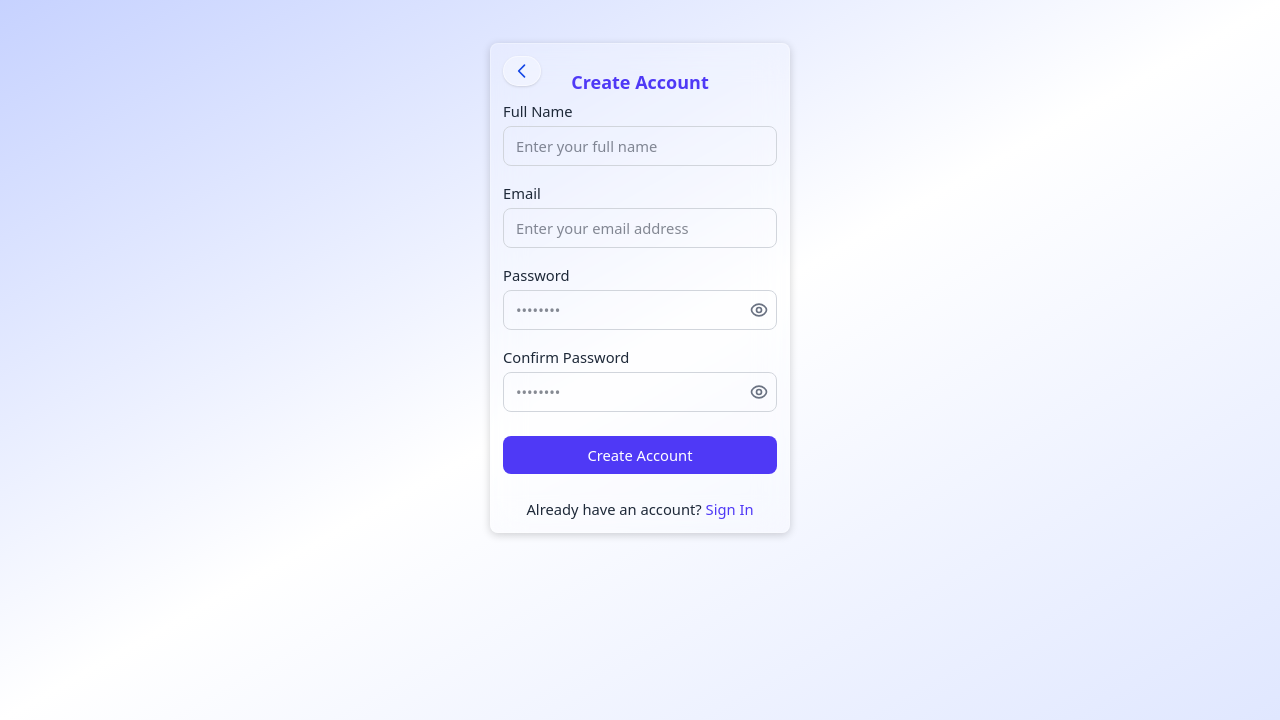
SignUp Page › shows error if email is invalid
This screenshot has width=1280, height=720.
In the field labelled "Full Name": (640, 146) [503,126,777,166], type "Test User"
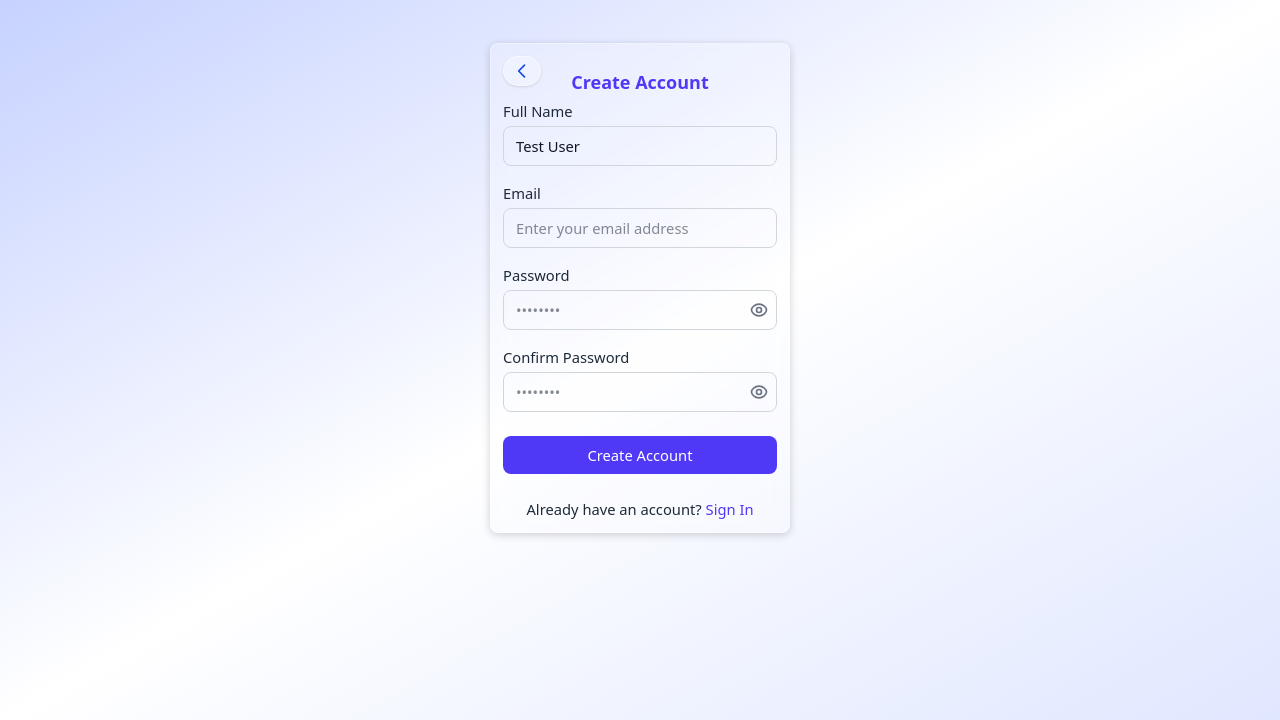
In the field labelled "Email": (640, 228) [503,208,777,248], type "invalidemail"
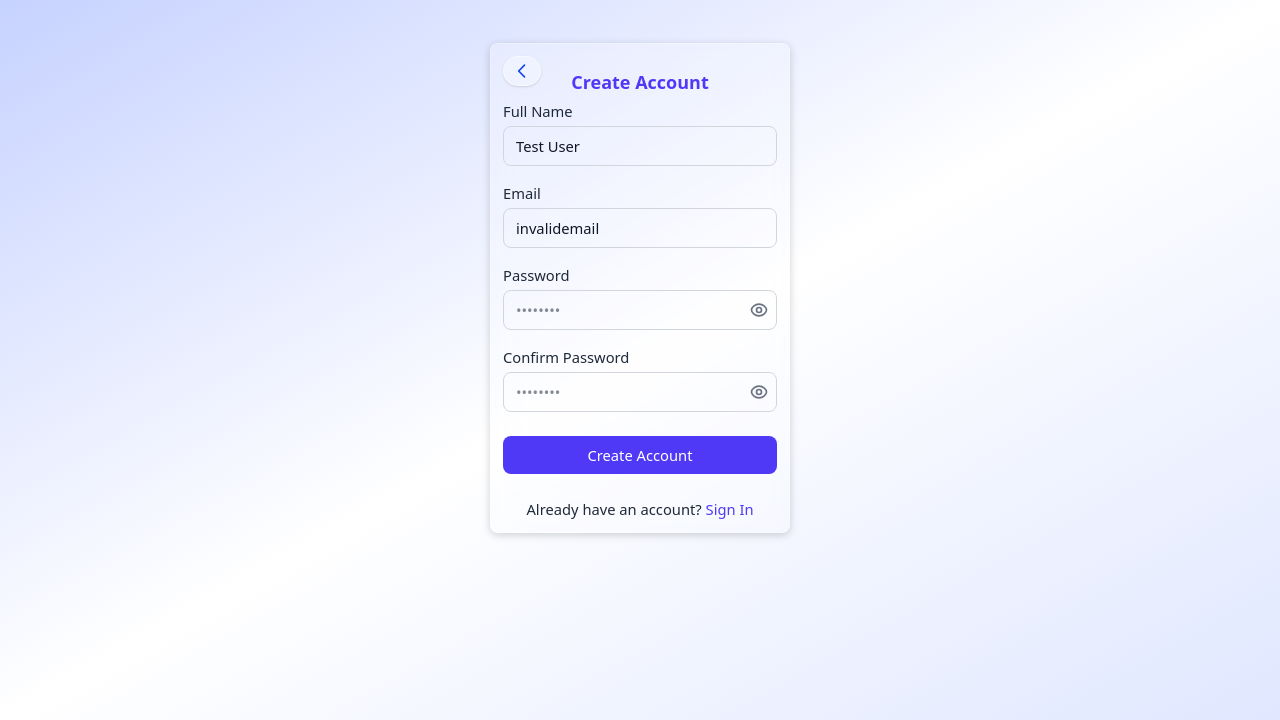
In the password field labelled "Password": (640, 310) [503,290,777,330], type "abcdef"
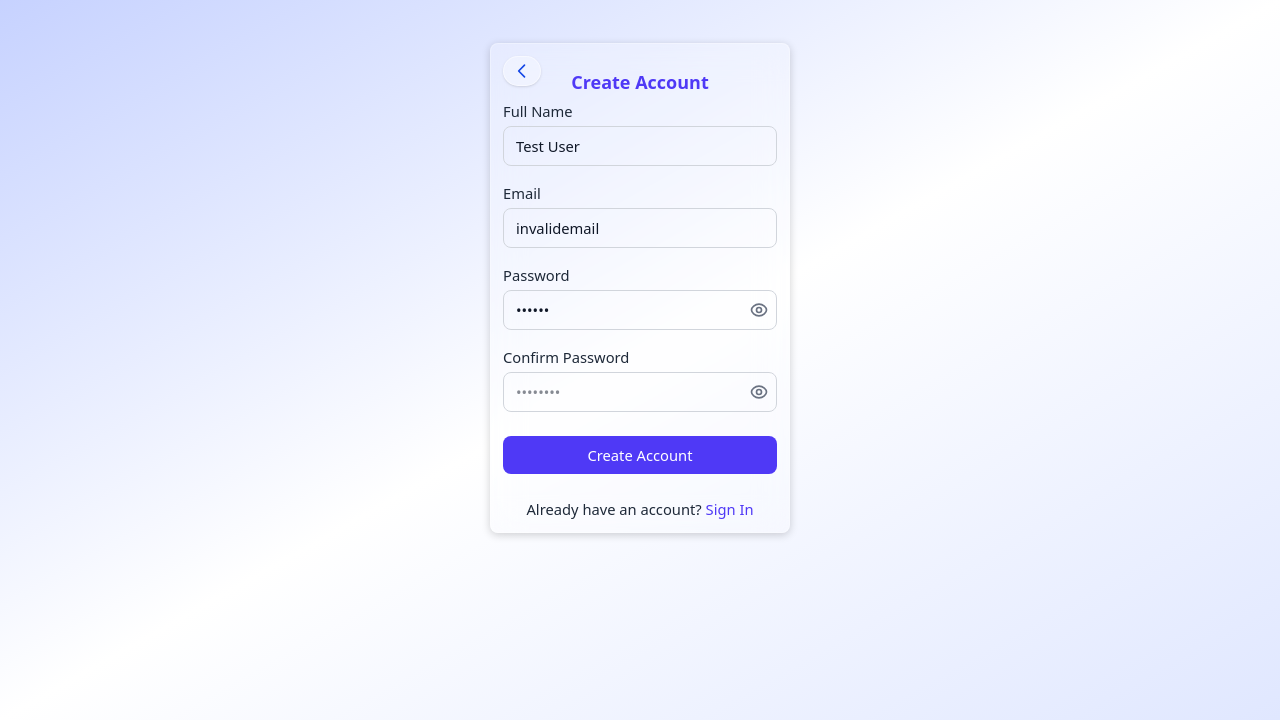
In the password field labelled "Confirm Password": (640, 392) [503,372,777,412], type "abcdef"
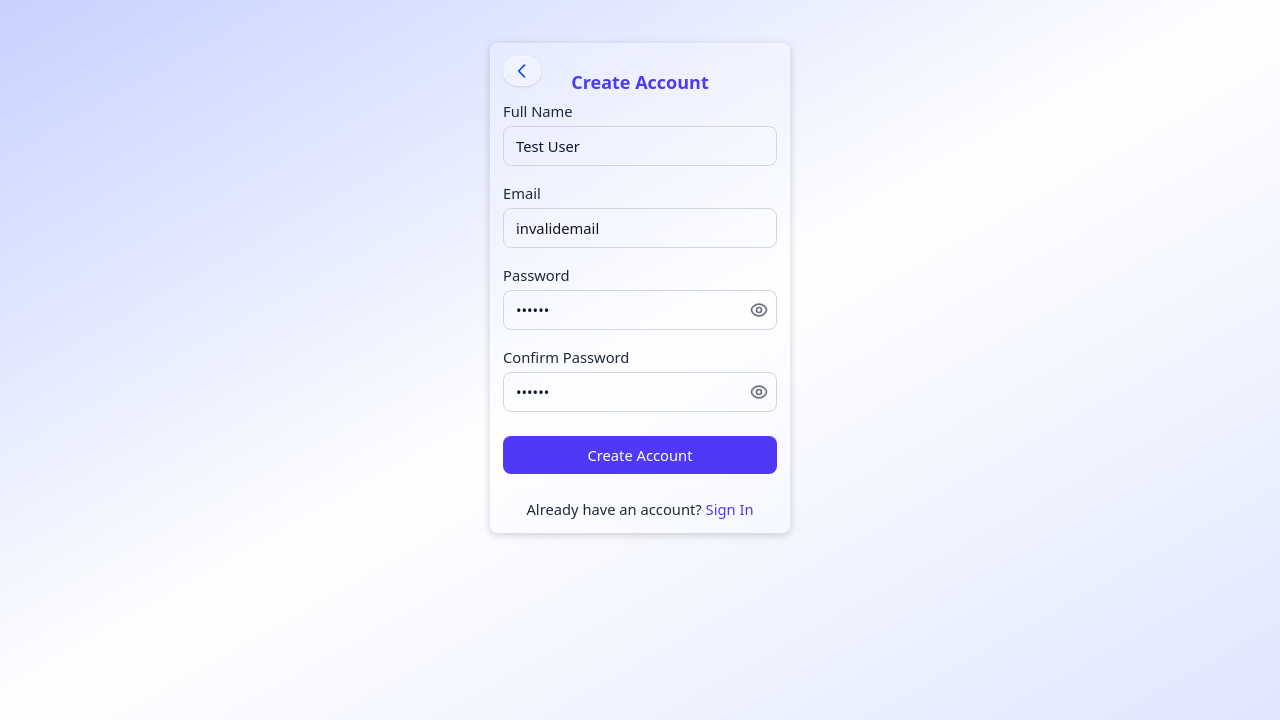
Submit the form, box [503,100,777,520]
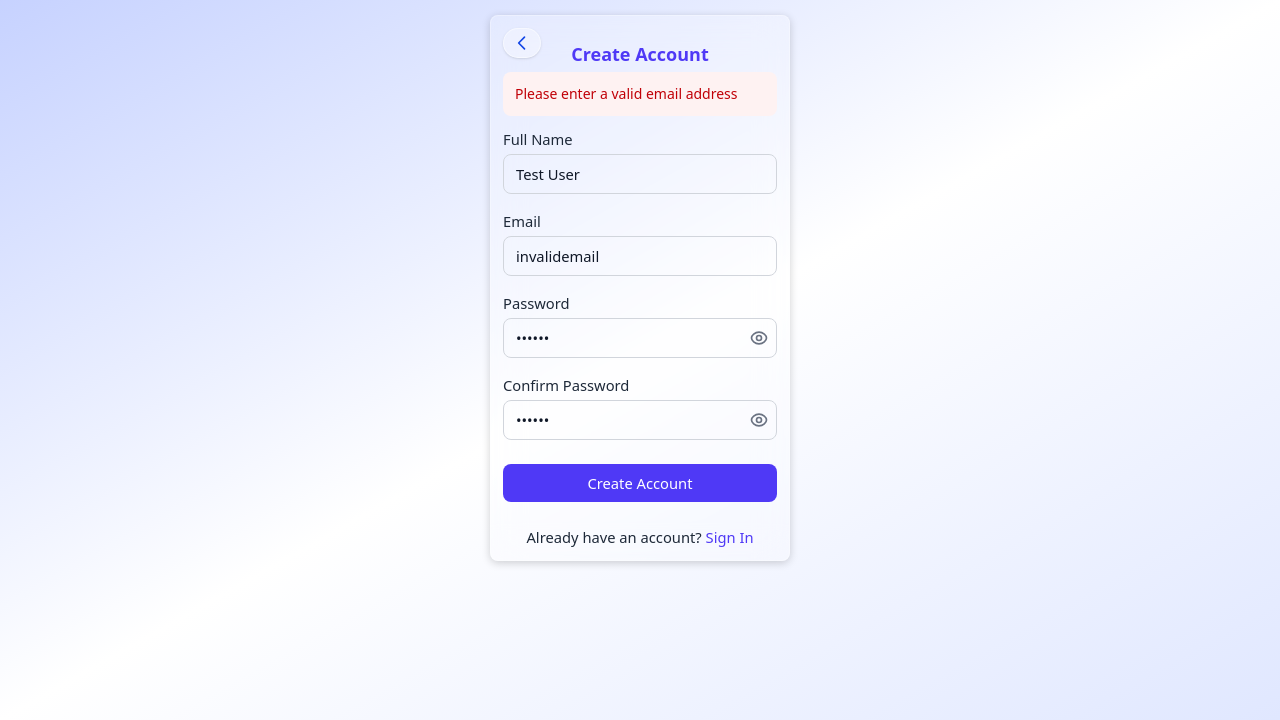
Check: the text "Please enter a valid email address" is shown, box [503,72,777,116]
